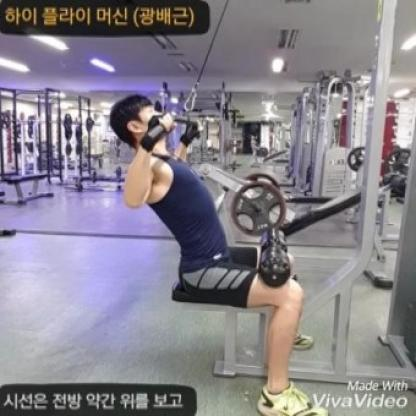Lat Pull Down: (102, 0, 416, 416)
